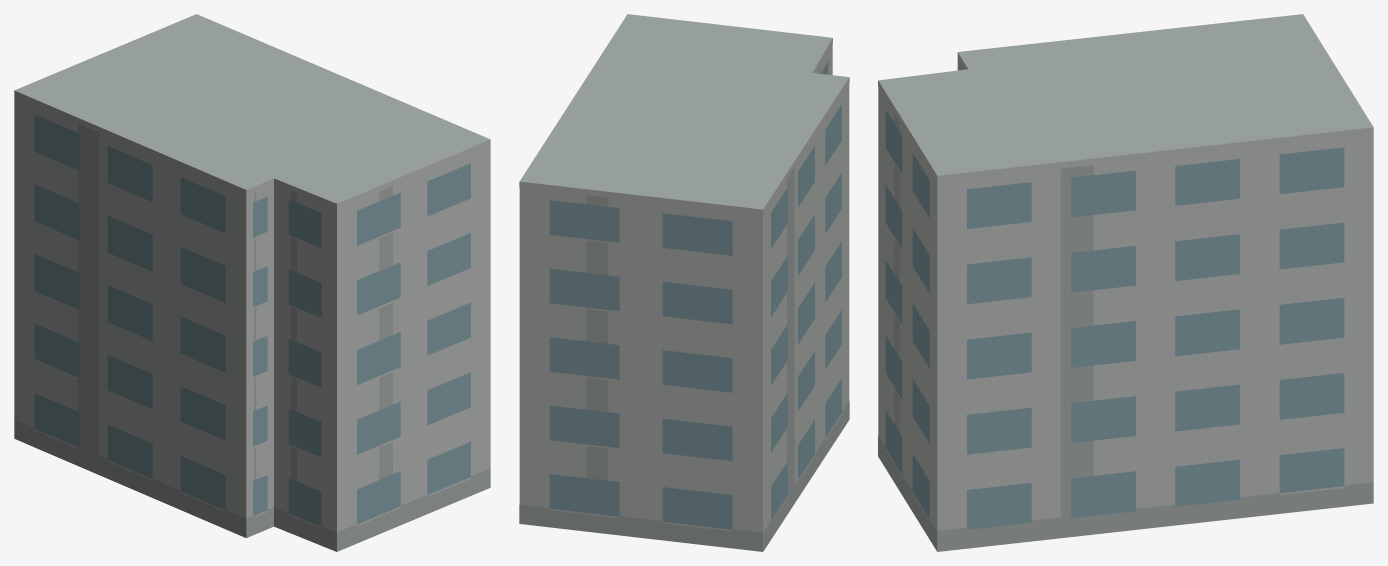
Rendered from survey-upis-32524193.glb.
The picture shows the model from 3 angles, left to right: view 1: azimuth 30°, elevation 25°; view 2: azimuth 150°, elevation 25°; view 3: azimuth 270°, elevation 25°; orthographic projection. The views are drawn at different scales.
Visible parts, largest first — view 1: survey-upis-32524193.tmp; view 2: survey-upis-32524193.tmp; view 3: survey-upis-32524193.tmp.
Boxes of the visible parts, box(x1,y1,x2,y2) form: survey-upis-32524193.tmp: box(14, 14, 490, 551); survey-upis-32524193.tmp: box(519, 14, 849, 551); survey-upis-32524193.tmp: box(878, 14, 1373, 551).
Size of the model in its own units: 13.4 by 14.5 by 17.33.
